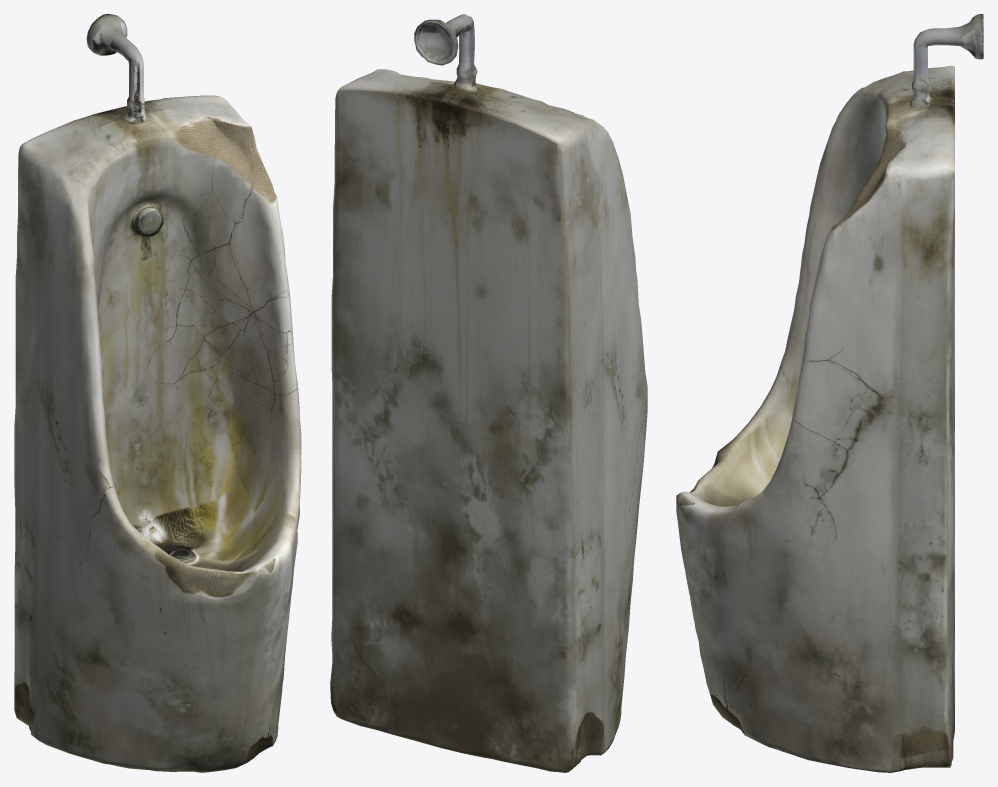
Rendered from Meshy_AI_Rusted_Spout_on_a_Cra_0517151940_texture.fbx.
3 views of the same model, side by side, from view 1: azimuth 30°, elevation 25°; view 2: azimuth 150°, elevation 25°; view 3: azimuth 270°, elevation 25° (orthographic). The views are drawn at different scales.
Parts seen in each view (by area): view 1: Mesh_0; view 2: Mesh_0; view 3: Mesh_0.
Part boxes in pixels (left/top/right/bottom): Mesh_0: left=14, top=14, right=301, bottom=772; Mesh_0: left=330, top=14, right=647, bottom=772; Mesh_0: left=676, top=14, right=983, bottom=772.
Size of the model in its own units: 68.49 by 191 by 75.54.
1 material, 1 textured.
